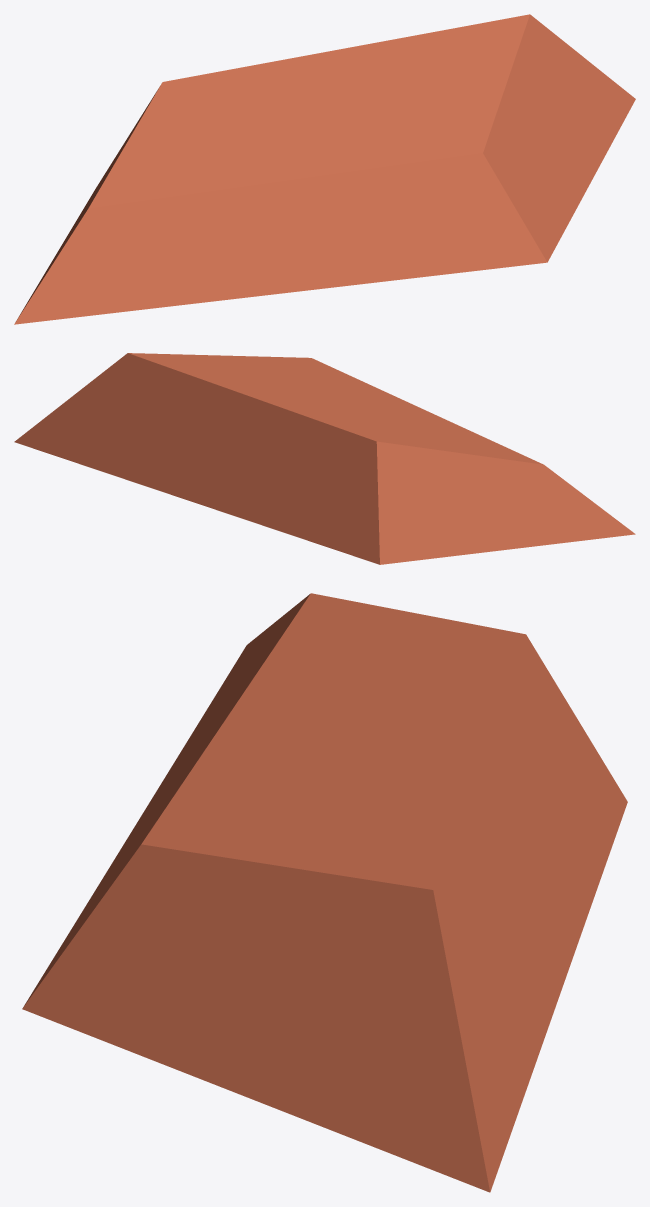
The model's file is Rock_Mesa_Small_1.fbx.
3 renders of one model, top to bottom at view 1: azimuth 30°, elevation 25°; view 2: azimuth 150°, elevation 25°; view 3: azimuth 270°, elevation 25°, orthographic. The views are drawn at different scales.
Parts seen in each view (by area): view 1: Cube; view 2: Cube; view 3: Cube.
Part boxes in pixels (box(x1,y1,x2,y2)): Cube: box(14, 14, 635, 324); Cube: box(14, 353, 635, 564); Cube: box(22, 593, 627, 1192).
Bounding box in the file's own units: 46.87 × 8.21 × 21.91.
